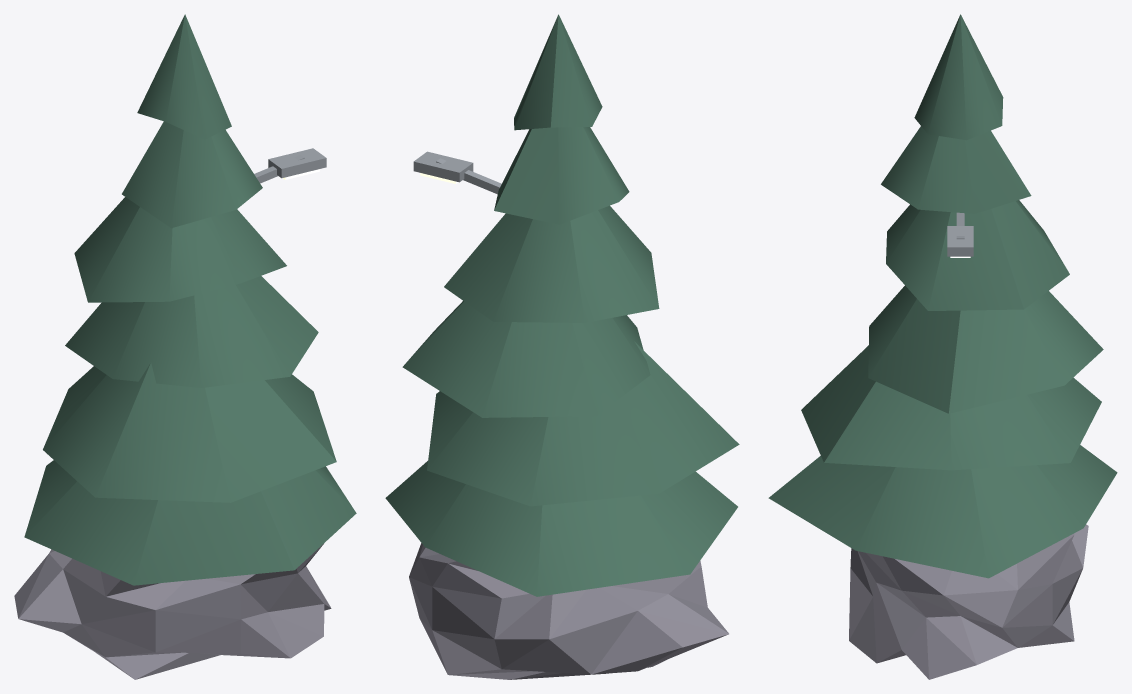
The model's file is switchback_props.glb.
The picture shows the model from 3 angles, left to right: view 1: azimuth 30°, elevation 25°; view 2: azimuth 150°, elevation 25°; view 3: azimuth 270°, elevation 25°; orthographic projection. The views are drawn at different scales.
Parts seen in each view (by area): view 1: pine_foliage, rock, lamp_post; view 2: pine_foliage, rock, lamp_post; view 3: pine_foliage, rock, lamp_post.
Boxes of the visible parts, x1,y1,x2,y2 form: pine_foliage: (24,14,356,585); rock: (14,544,331,679); lamp_post: (254,148,326,183); pine_foliage: (385,14,739,596); rock: (409,543,728,679); lamp_post: (413,151,501,194); pine_foliage: (768,14,1117,578); rock: (849,524,1088,679); lamp_post: (947,212,973,256).
Bounding box in the file's own units: 5.01 × 9.15 × 4.8.
